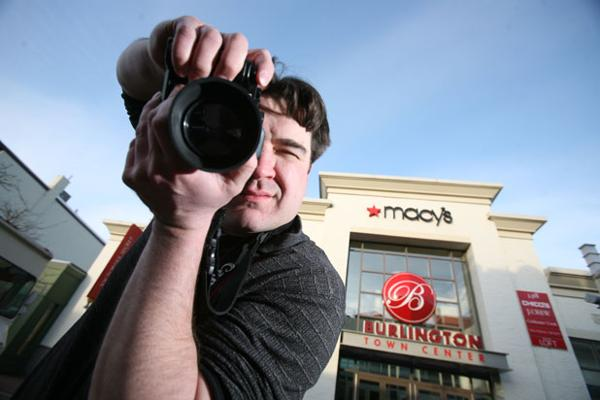person: (15, 17, 349, 400)
